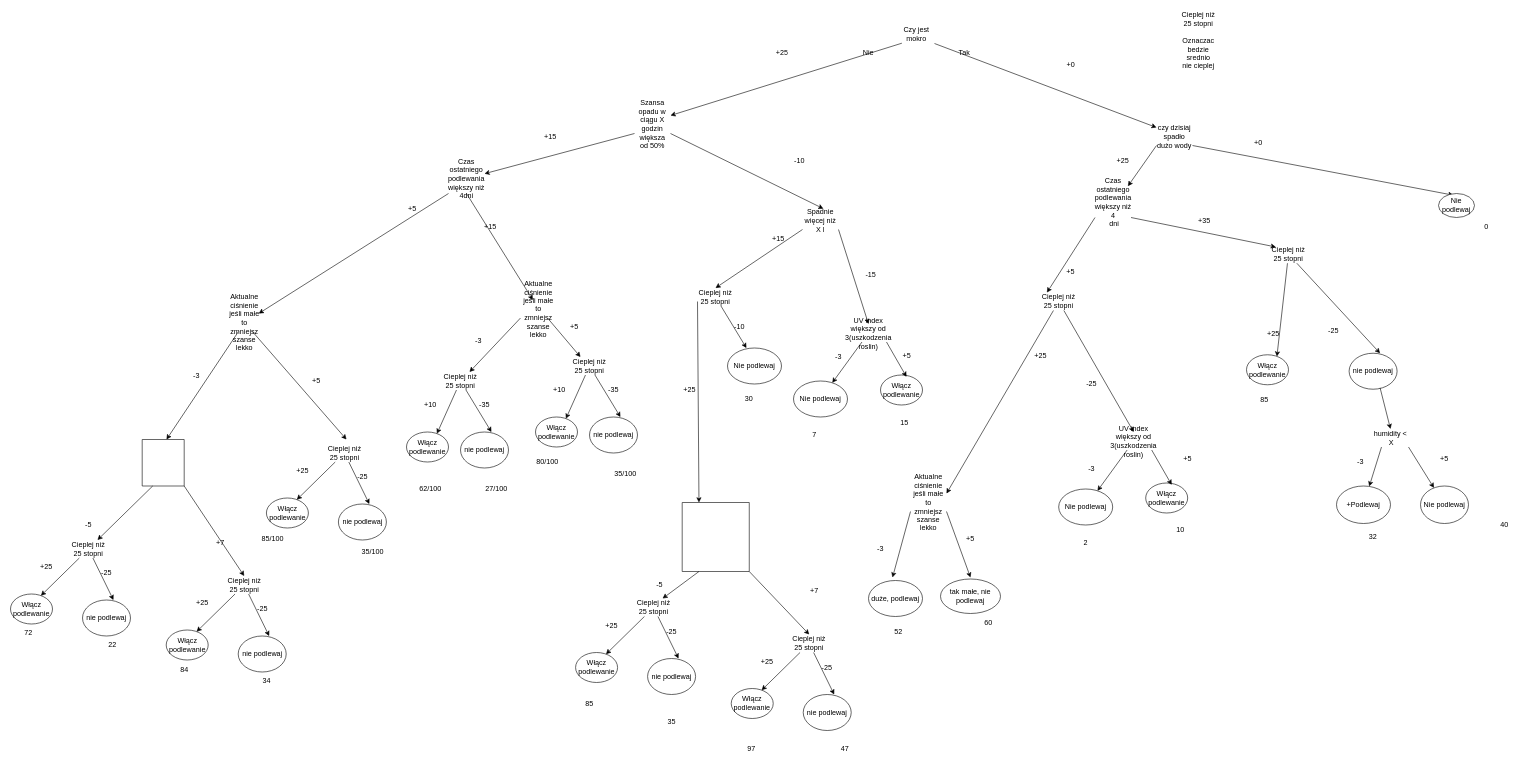
Some shapes in this 1533 by 768 pixel diagram are drawn without their labels. The shapes that lost their labels are listed below. From the top down, each one's box as (x1, y1, x2, y2) in pixels, then its label:
(142, 439, 184, 486): UV index mniejszy niż
(682, 502, 749, 572): UV index większ/mniejszy niż
